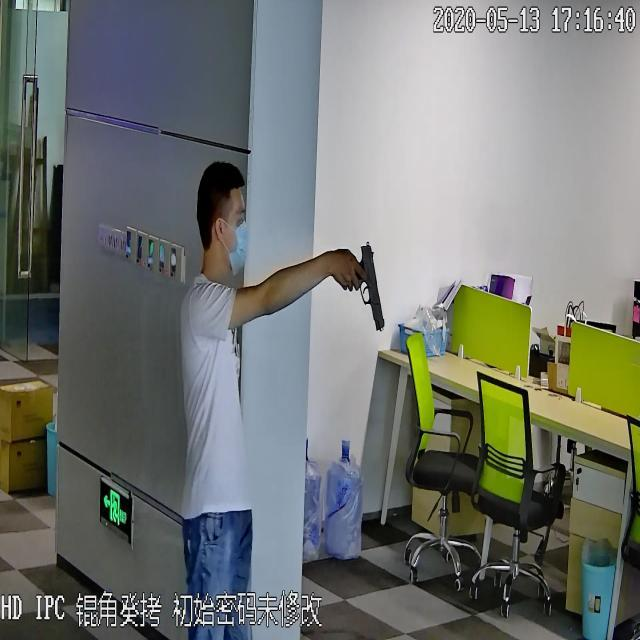gun: (341, 238, 388, 334)
